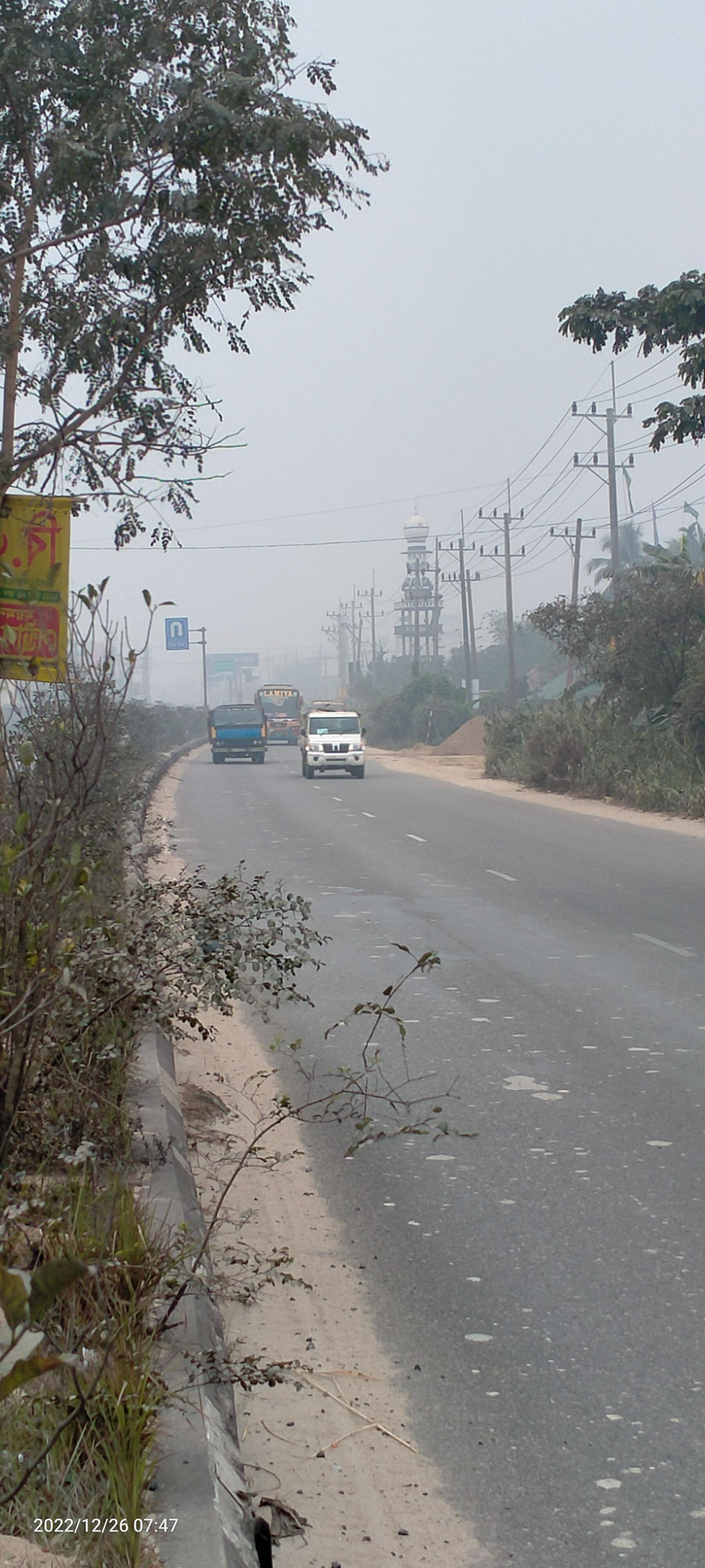Bus: (253, 680, 310, 753)
Truck: (302, 701, 372, 785), (198, 699, 278, 763)
